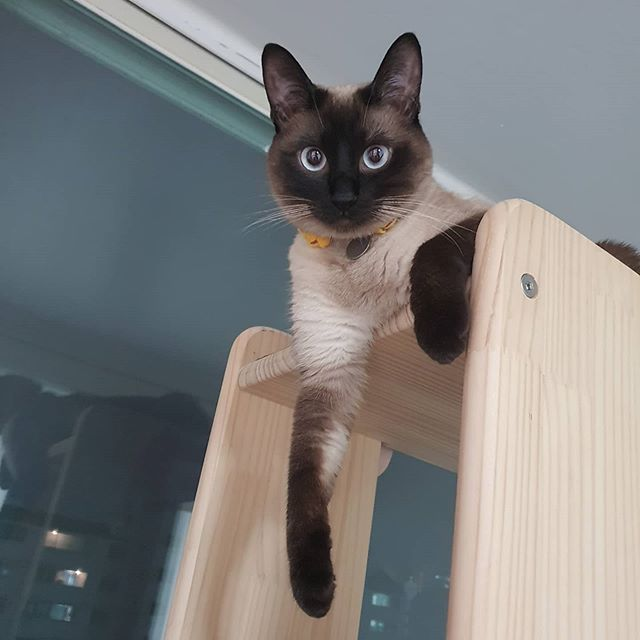cat: (249, 31, 439, 232)
